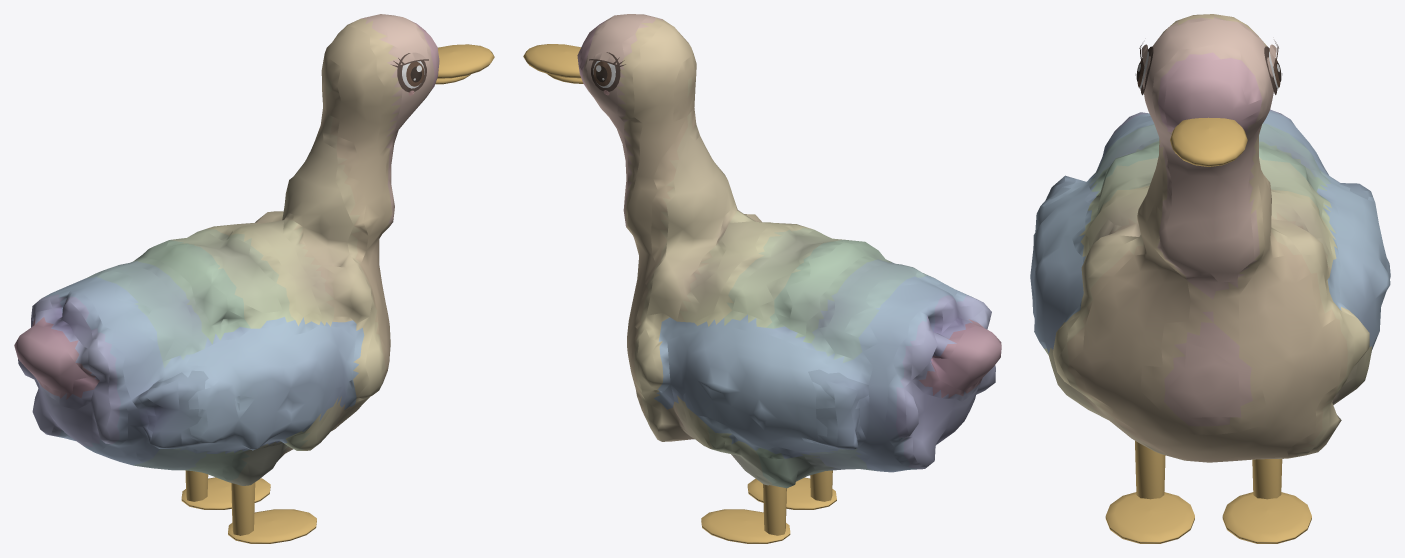
The model's file is rainbow_goose.glb.
The picture shows the model from 3 angles, left to right: view 1: azimuth 30°, elevation 25°; view 2: azimuth 150°, elevation 25°; view 3: azimuth 270°, elevation 25°; orthographic projection. The views are drawn at different scales.
Visible parts, largest first — view 1: rainbow_goose; view 2: rainbow_goose; view 3: rainbow_goose.
Boxes of the visible parts, bbox=[...] form: rainbow_goose: bbox=[14, 14, 494, 543]; rainbow_goose: bbox=[523, 14, 1001, 543]; rainbow_goose: bbox=[1030, 14, 1390, 543].
Bounding box in the file's own units: 0.7062 × 0.6639 × 0.3722.
